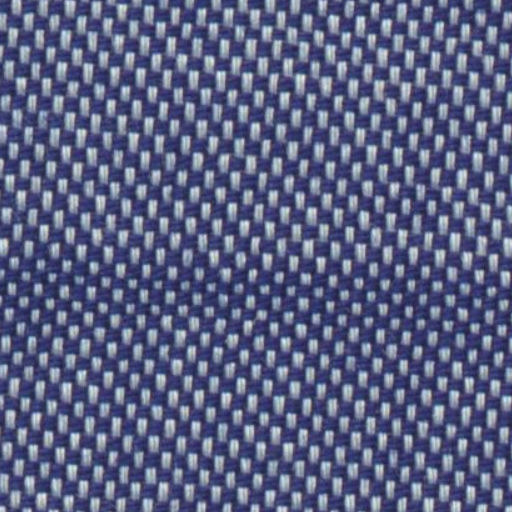TuoSha: (16, 218, 496, 411)
